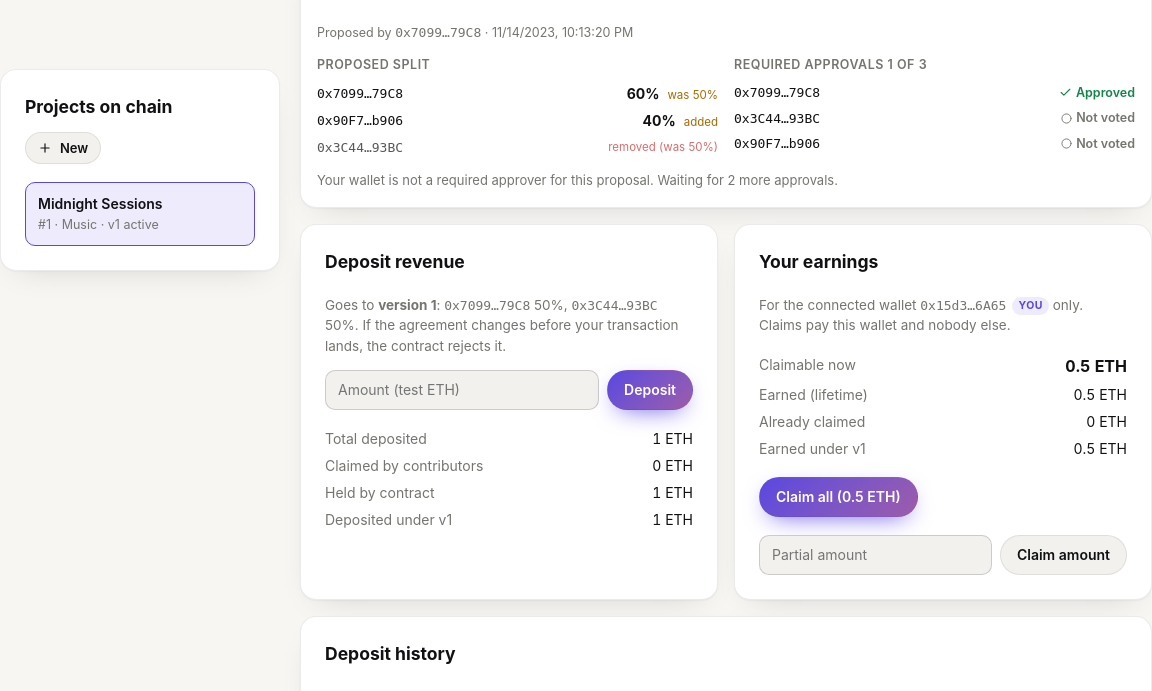
Test: live dashboard: revenue › explains insufficient test ETH reported by the wallet
(page scrolled)
Type "5" into the field named "deposit amount" at (462,390), box top-left (325, 370), bottom-right (599, 410)
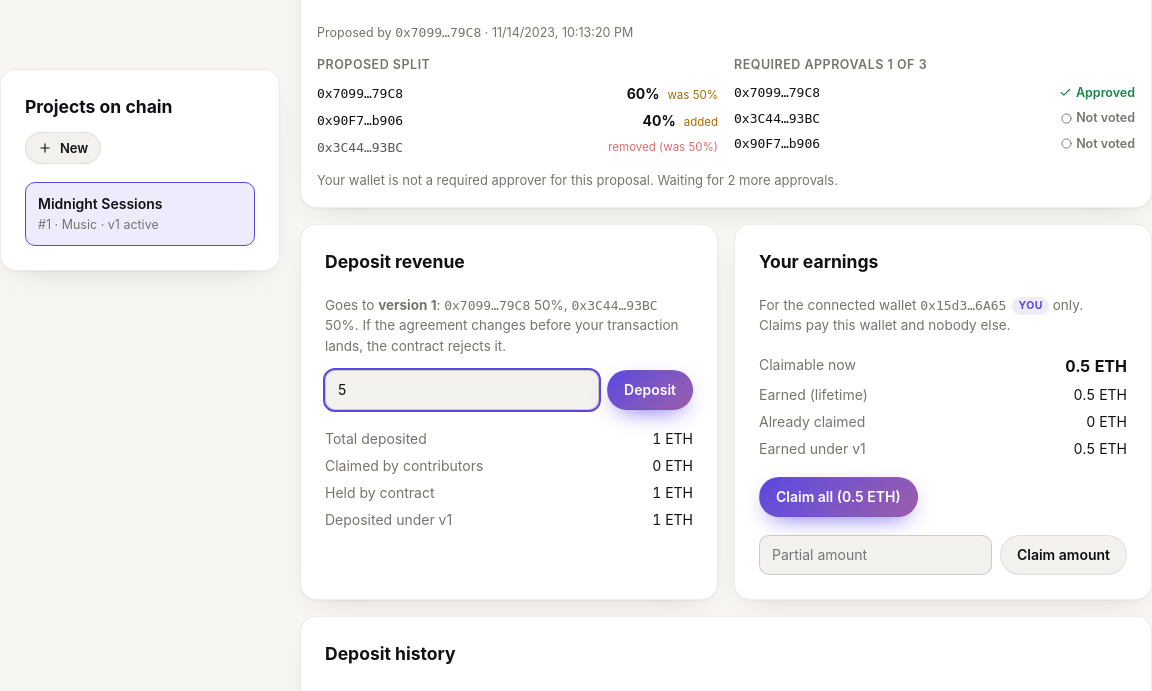
Click the button "Deposit" at (650,390), box top-left (607, 370), bottom-right (693, 410)
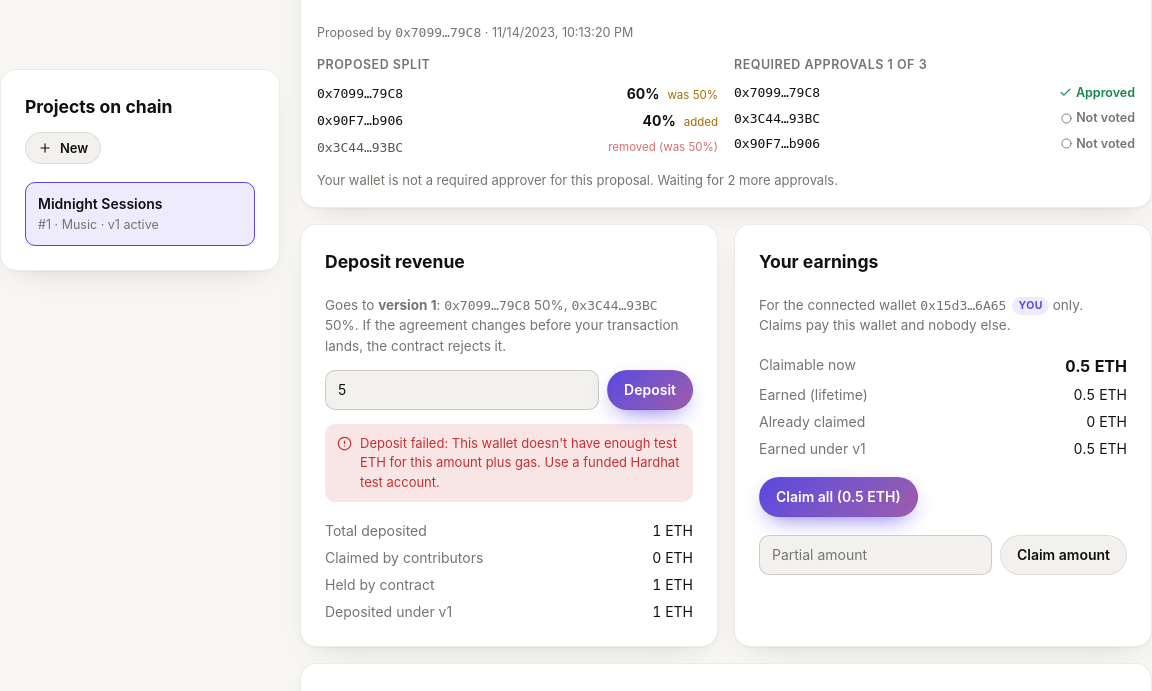
Result: the message shows "doesn't have enough test ETH" at top-left (360, 435), bottom-right (679, 490)
